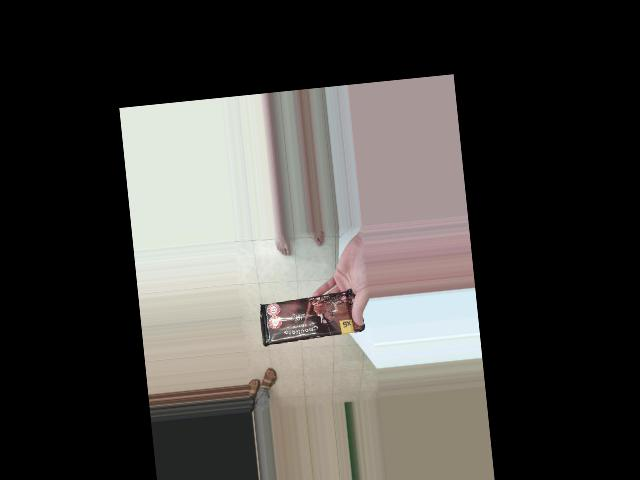chocolate: (251, 280, 320, 396)
